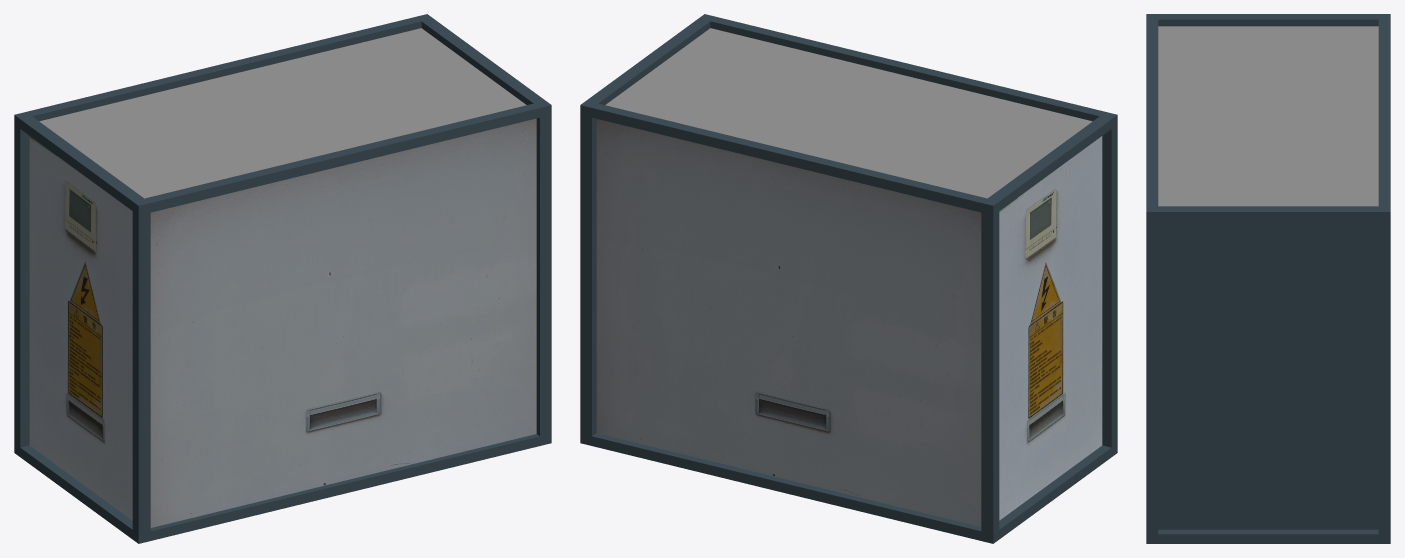
3 renders of one model, left to right at view 1: azimuth 30°, elevation 25°; view 2: azimuth 150°, elevation 25°; view 3: azimuth 270°, elevation 25°, orthographic.
Parts seen in each view (by area): view 1: 主机主机 (×3); view 2: 主机主机 (×3); view 3: 主机主机 (×3).
Boxes of the visible parts, box(x1,y1,x2,y2) form: 主机主机 (×3): box(14, 14, 551, 543); 主机主机 (×3): box(580, 14, 1117, 543); 主机主机 (×3): box(1146, 14, 1390, 543).
Size of the model in its own units: 3.96 by 3.09 by 2.06.
4 materials, 2 textured.
